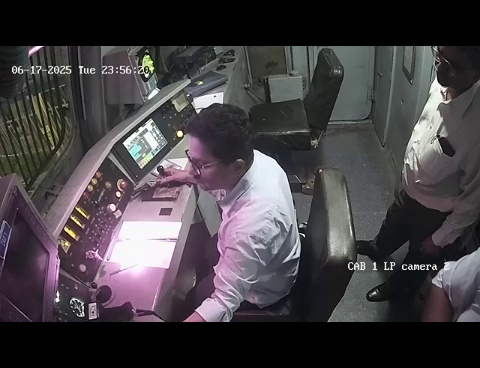horn_inactive: (79, 274, 128, 310)
